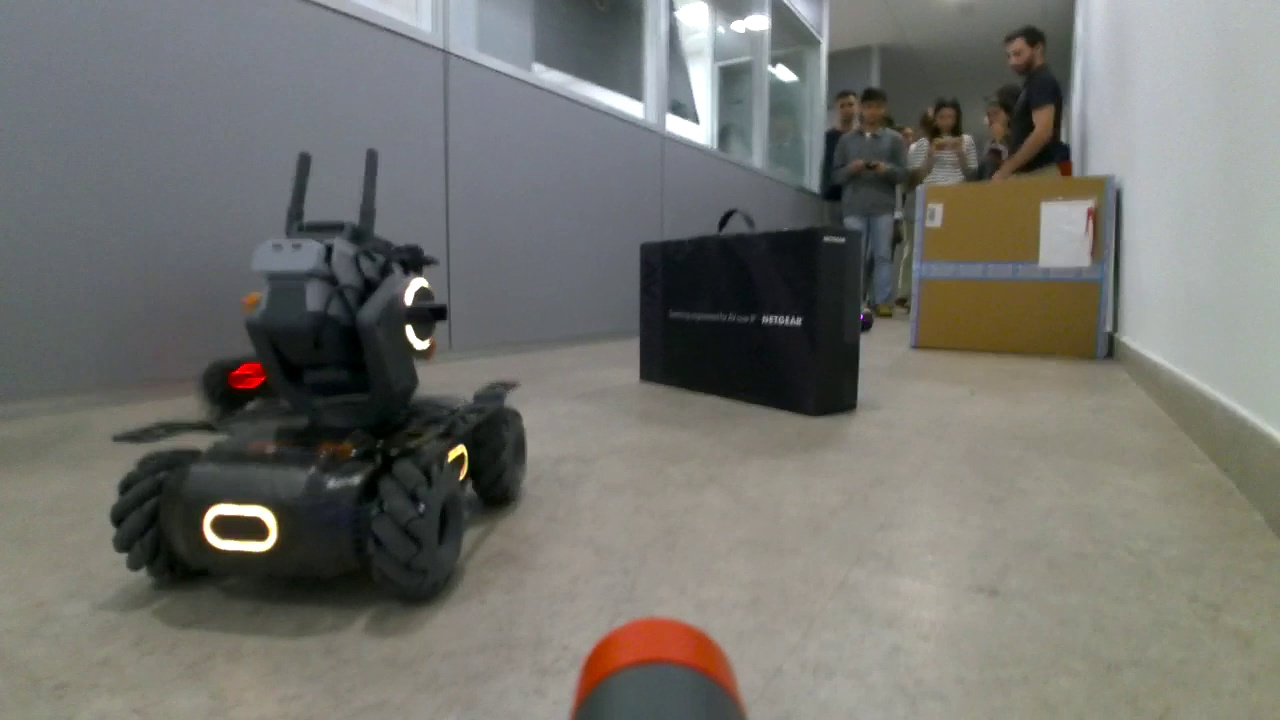robot: (109, 217, 529, 607)
